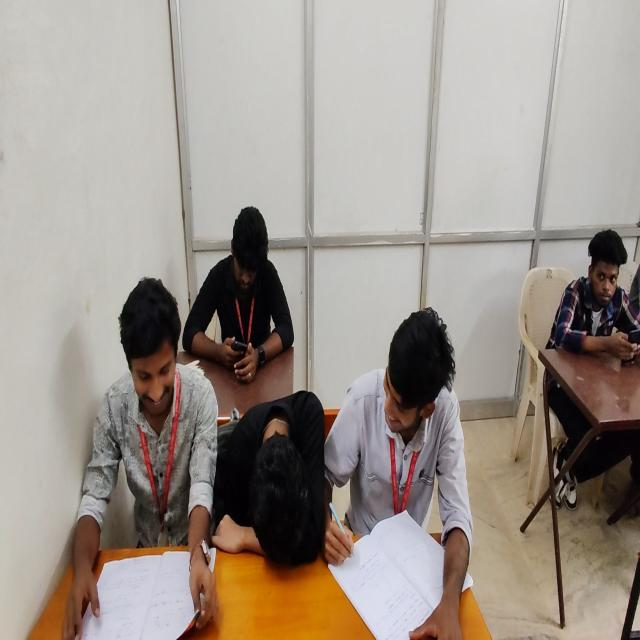reading: (54, 274, 220, 640)
sleeping: (211, 379, 332, 576)
turning: (326, 294, 474, 640)
using_mobile: (180, 192, 312, 384), (543, 199, 640, 370)
